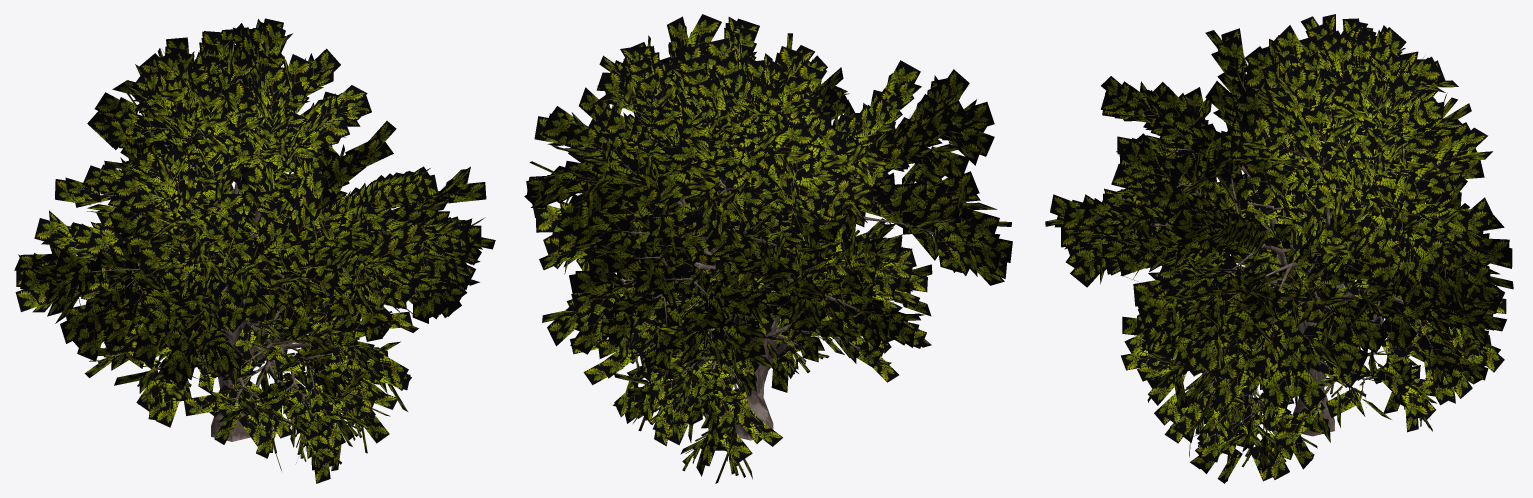
The model's file is Tree2.fbx.
3 renders of one model, left to right at view 1: azimuth 30°, elevation 25°; view 2: azimuth 150°, elevation 25°; view 3: azimuth 270°, elevation 25°, orthographic. The views are drawn at different scales.
Parts seen in each view (by area): view 1: Tree3Leaves_LOD0, Tree2Leaves_LOD0, Tree1Leaves_LOD0, Tree3_LOD0, Tree1_LOD0, Tree2_LOD0; view 2: Tree3Leaves_LOD0, Tree2Leaves_LOD0, Tree1Leaves_LOD0, Tree3_LOD0, Tree1_LOD0; view 3: Tree3Leaves_LOD0, Tree2Leaves_LOD0, Tree1Leaves_LOD0, Tree3_LOD0, Tree2_LOD0.
Part boxes in pixels (box(x1,y1,x2,y2)): Tree3Leaves_LOD0: box(14, 18, 495, 386); Tree2Leaves_LOD0: box(66, 207, 418, 483); Tree1Leaves_LOD0: box(89, 224, 395, 462); Tree3_LOD0: box(76, 90, 447, 441); Tree1_LOD0: box(108, 228, 374, 439); Tree2_LOD0: box(108, 228, 375, 438); Tree3Leaves_LOD0: box(524, 14, 1012, 385); Tree2Leaves_LOD0: box(566, 208, 932, 483); Tree1Leaves_LOD0: box(598, 208, 910, 475); Tree3_LOD0: box(577, 100, 971, 440); Tree1_LOD0: box(633, 237, 895, 445); Tree3Leaves_LOD0: box(1045, 14, 1513, 422); Tree2Leaves_LOD0: box(1121, 163, 1506, 483); Tree1Leaves_LOD0: box(1136, 183, 1485, 467); Tree3_LOD0: box(1136, 62, 1462, 436); Tree2_LOD0: box(1173, 204, 1430, 444).
Size of what is drawn, in the model's own units: 989 by 833 by 876.
